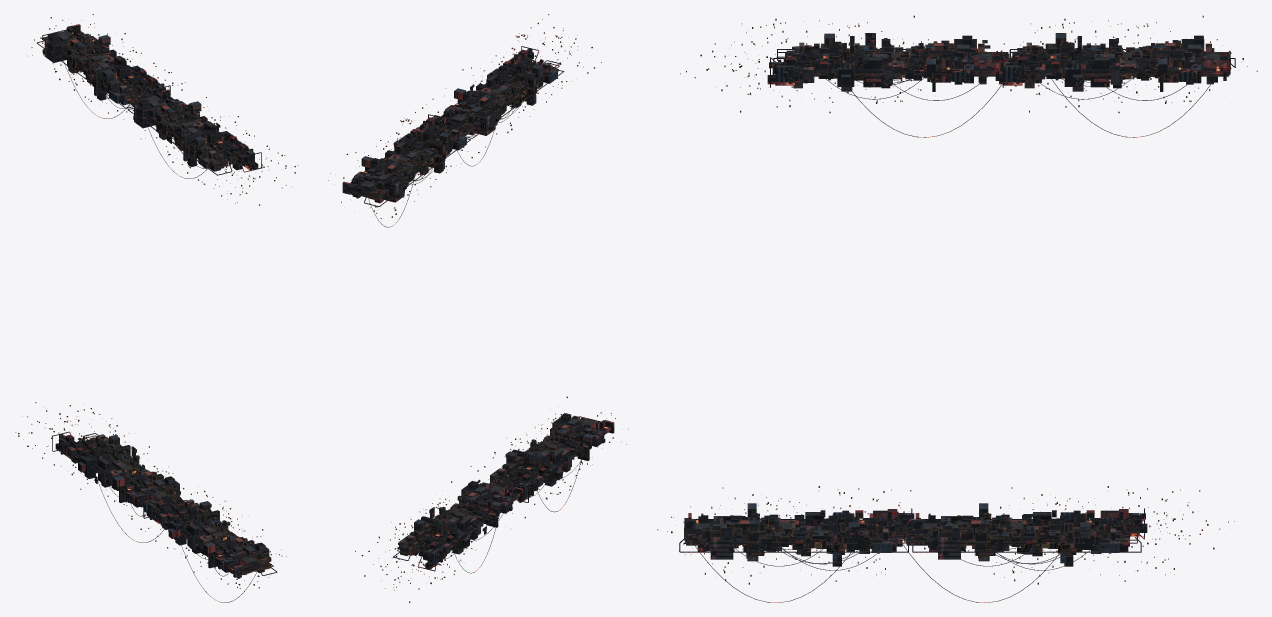
3 views of the same model, side by side, from view 1: azimuth 30°, elevation 25°; view 2: azimuth 150°, elevation 25°; view 3: azimuth 270°, elevation 25° (orthographic). The views are drawn at different scales.
Parts seen in each view (by area): view 1: spaceship_low, spaceship_low.001, spaceship.001_low.001, spaceship.001_low, spaceship.006_low, spaceship.005_low.001, spaceship.002_low.001, spaceship.002_low, spaceship.006_low.001, spaceship.005_low; view 2: spaceship_low.001, spaceship_low, spaceship.001_low, spaceship.001_low.001, spaceship.005_low.001, spaceship.002_low.001, spaceship.002_low, spaceship.006_low.001, spaceship.006_low, spaceship.005_low; view 3: spaceship_low.001, spaceship_low, spaceship.001_low, spaceship.001_low.001, spaceship.006_low.001, spaceship.005_low, spaceship.006_low, spaceship.004_low, spaceship.002_low, spaceship.002_low.001, spaceship.004_low.001, spaceship.003_low.
Part boxes in pixels (box(x1,y1,x2,y2)): spaceship_low: box(59, 434, 269, 578); spaceship_low.001: box(44, 24, 254, 170); spaceship.001_low.001: box(42, 25, 258, 171); spaceship.001_low: box(55, 434, 271, 578); spaceship.006_low: box(67, 446, 271, 575); spaceship.005_low.001: box(36, 29, 261, 175); spaceship.002_low.001: box(27, 14, 298, 205); spaceship.002_low: box(15, 402, 286, 591); spaceship.006_low.001: box(42, 31, 238, 161); spaceship.005_low: box(52, 431, 277, 575); spaceship_low.001: box(342, 49, 557, 202); spaceship_low: box(399, 415, 614, 566); spaceship.001_low: box(398, 413, 608, 569); spaceship.001_low.001: box(347, 48, 558, 203); spaceship.005_low.001: box(343, 46, 564, 206); spaceship.002_low.001: box(328, 14, 601, 218); spaceship.002_low: box(355, 396, 628, 602); spaceship.006_low.001: box(343, 67, 519, 200); spaceship.006_low: box(417, 418, 611, 551); spaceship.005_low: box(393, 416, 610, 571); spaceship_low.001: box(775, 36, 1228, 91); spaceship_low: box(686, 510, 1139, 563); spaceship.001_low: box(684, 503, 1147, 566); spaceship.001_low.001: box(767, 33, 1230, 91); spaceship.006_low.001: box(794, 51, 1230, 76); spaceship.005_low: box(679, 508, 1144, 552); spaceship.006_low: box(684, 519, 1125, 545); spaceship.004_low: box(695, 528, 1090, 602); spaceship.002_low: box(657, 486, 1234, 584); spaceship.002_low.001: box(680, 15, 1257, 113); spaceship.004_low.001: box(826, 76, 1210, 137); spaceship.003_low: box(700, 513, 1049, 553).
Bounding box in the file's own units: 54.64 × 231 × 212.
1 material, 1 textured.
